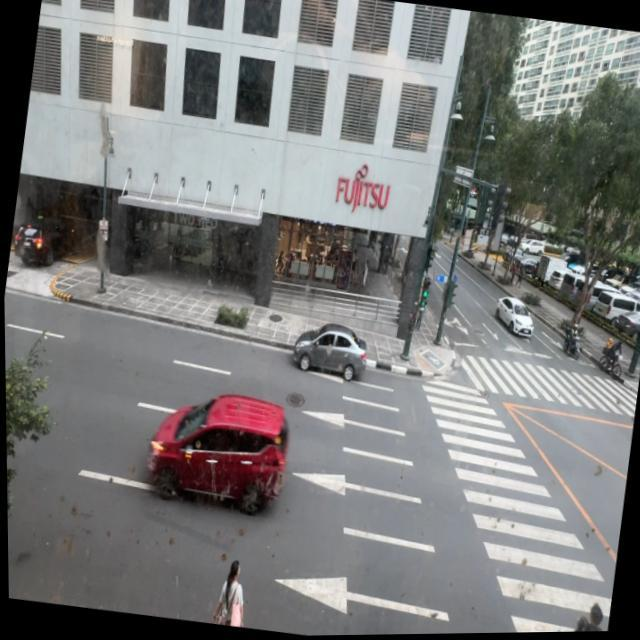jaywalking: (208, 546, 254, 628)
